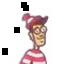waldo: (22, 13, 49, 46)
